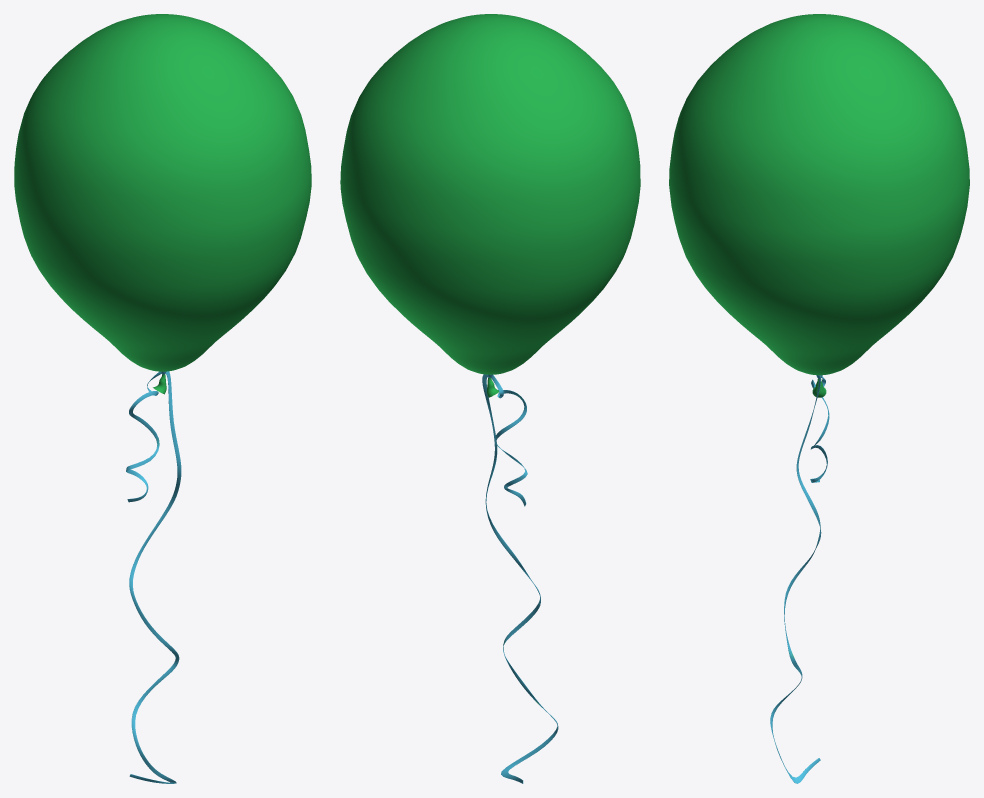
The model's file is balloon_194.obj.
The picture shows the model from 3 angles, left to right: view 1: azimuth 30°, elevation 25°; view 2: azimuth 150°, elevation 25°; view 3: azimuth 270°, elevation 25°; orthographic projection.
Visible parts, largest first — view 1: balloon_194; view 2: balloon_194; view 3: balloon_194.
Part boxes in pixels (<box>): balloon_194: <box>14,14,311,783</box>; balloon_194: <box>340,14,640,783</box>; balloon_194: <box>669,14,969,783</box>.
Size of the model in its own units: 27.91 by 77.75 by 27.96.
1 material, 1 textured.
